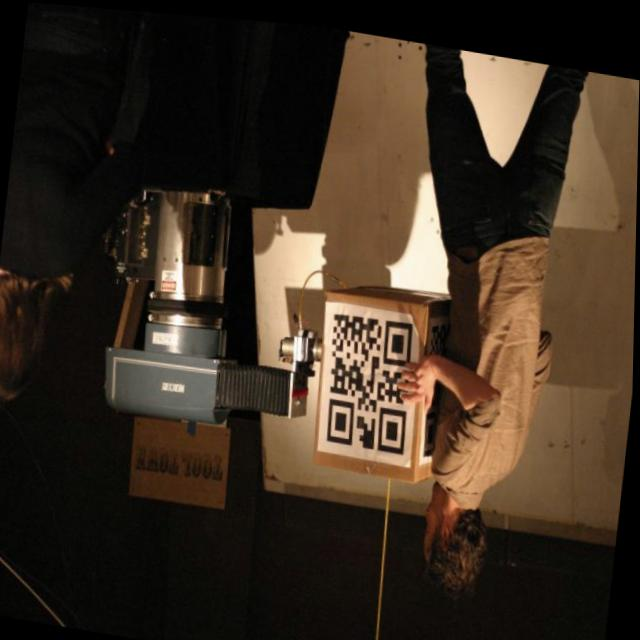qrcode: (322, 304, 418, 448)
